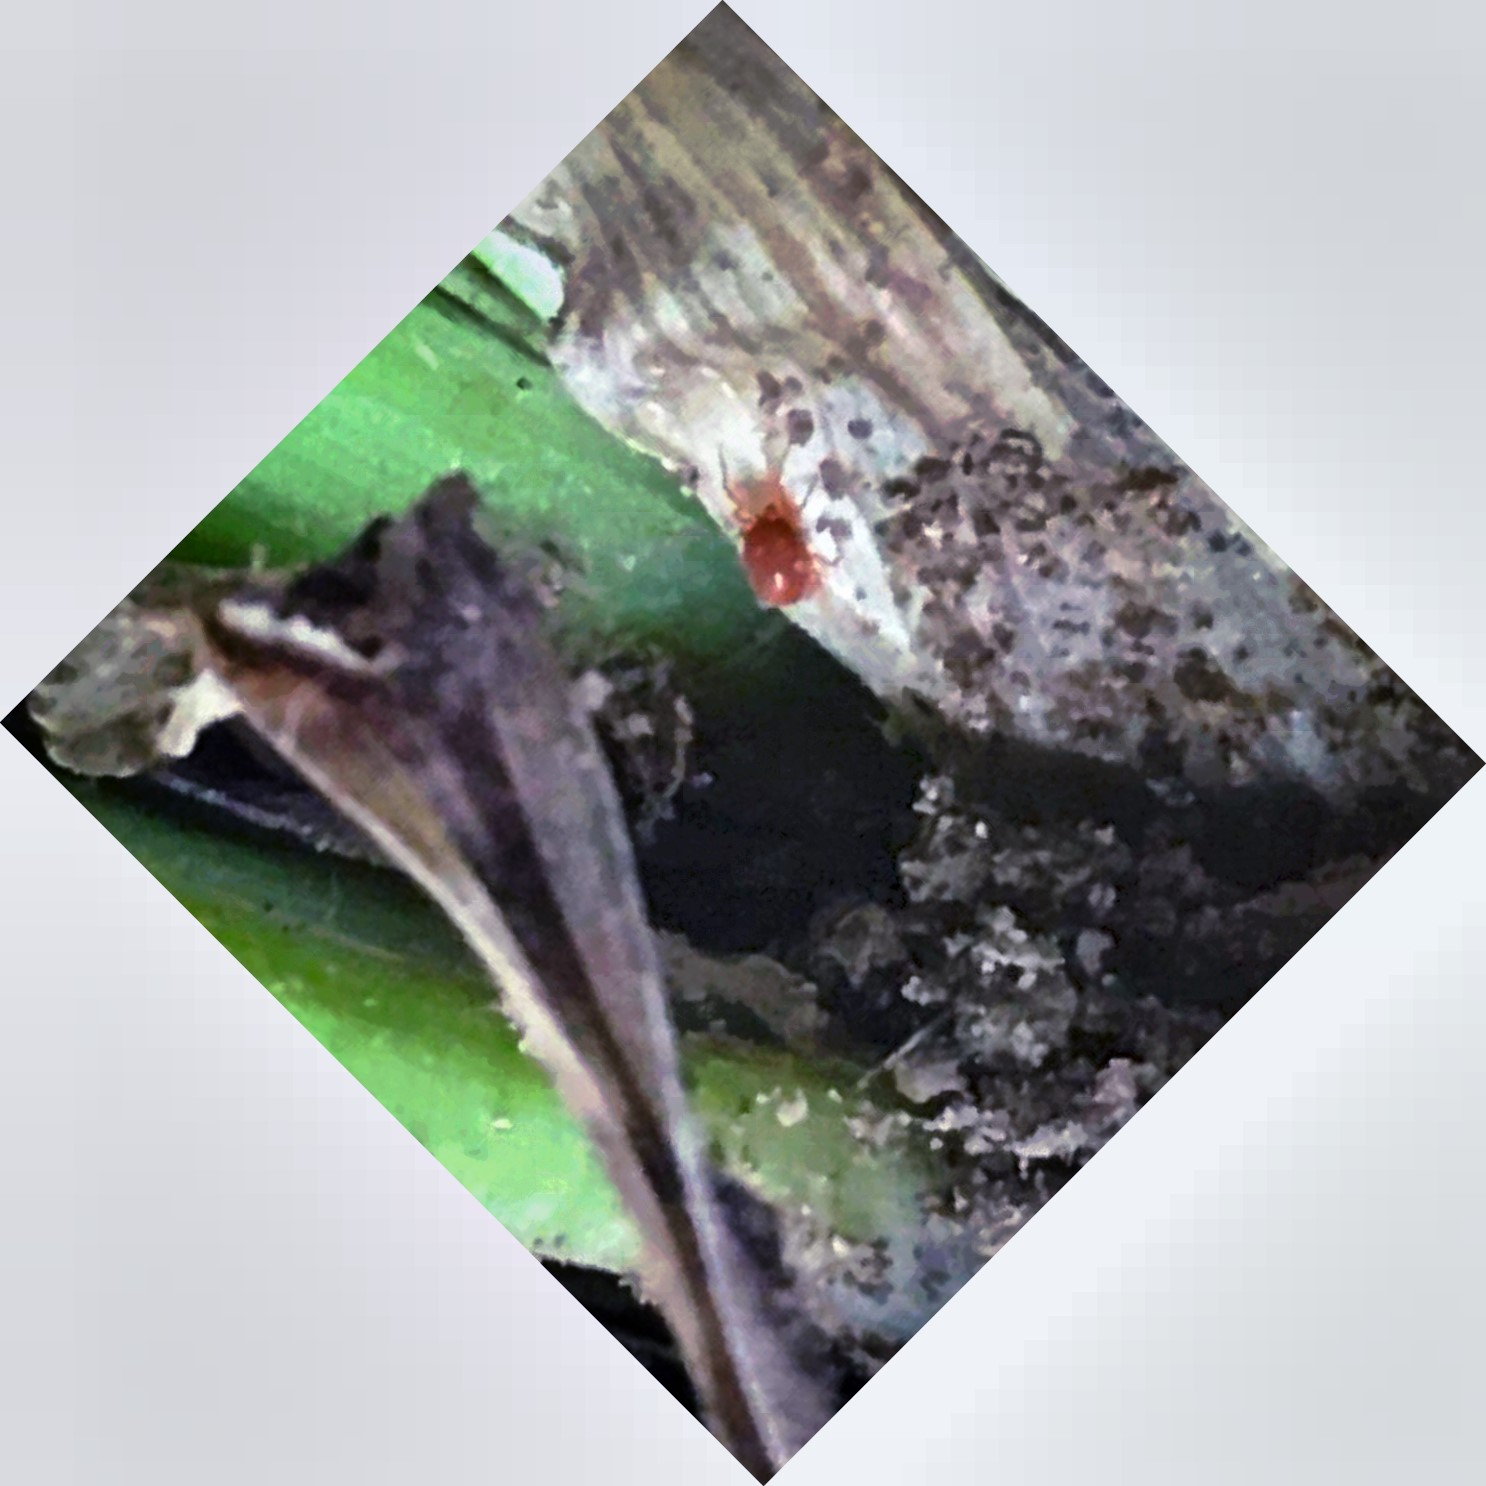Wheat Red Spider: (704, 440, 851, 635)
